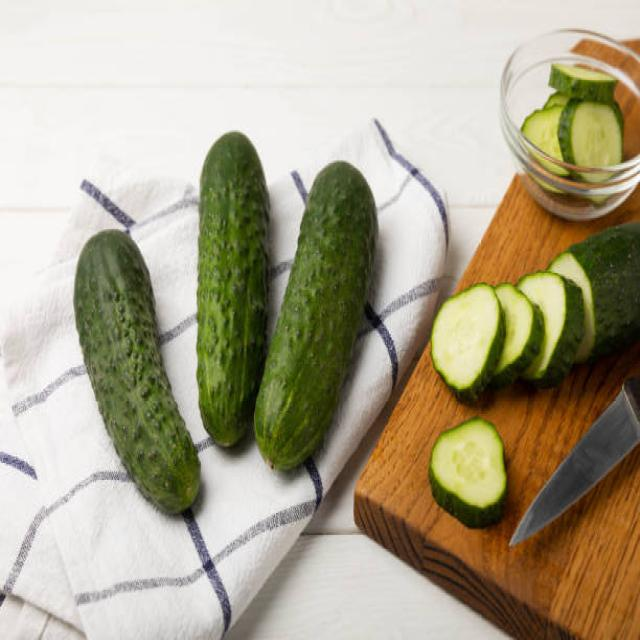cucumber: (252, 157, 378, 477), (72, 227, 202, 512), (196, 128, 272, 452)
